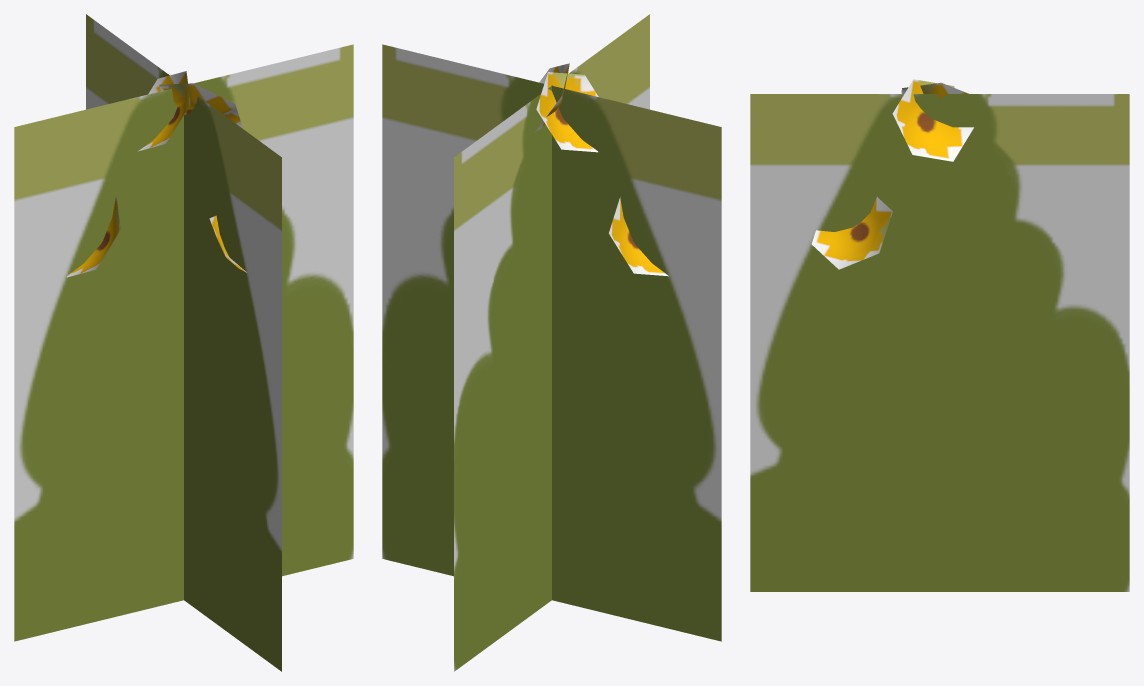
The model's file is flowerYellow.fbx.
The picture shows the model from 3 angles, left to right: view 1: azimuth 30°, elevation 25°; view 2: azimuth 150°, elevation 25°; view 3: azimuth 270°, elevation 25°; orthographic projection. The views are drawn at different scales.
Parts seen in each view (by area): view 1: flowerYellow; view 2: flowerYellow; view 3: flowerYellow.
Part boxes in pixels (x1,y1,x2,y2): flowerYellow: (14, 14, 353, 671); flowerYellow: (382, 14, 721, 671); flowerYellow: (750, 79, 1129, 591).
Bounding box in the file's own units: 34.53 × 51.3 × 34.53.
